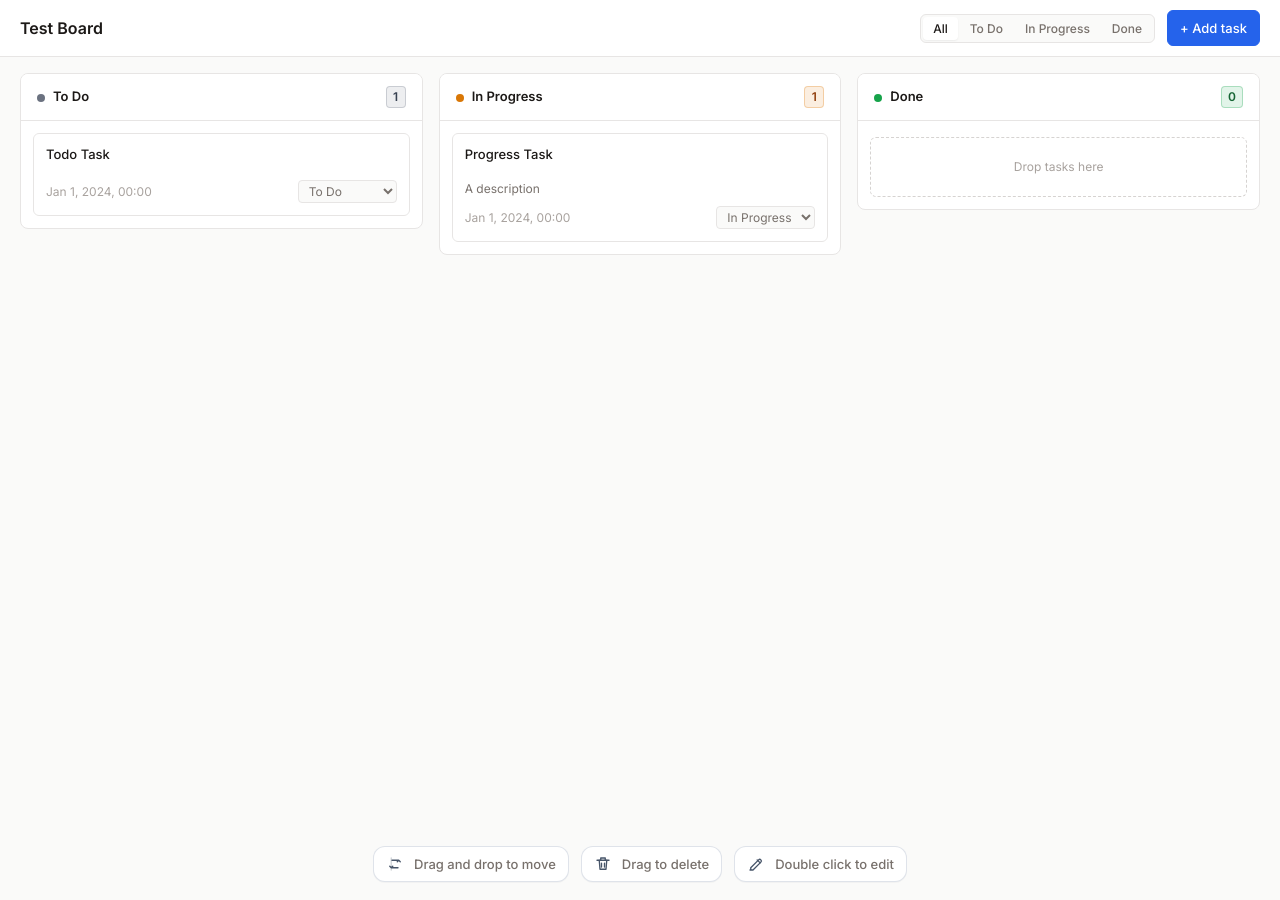
Test: TaskBoard › shows only the empty filter state when the selected status has no tasks
This screenshot has width=1280, height=900.
Check: the text "Todo Task" is shown, box top-left (46, 146), bottom-right (110, 162)
Click the button "Done". click: (1127, 28)
box: top-left (1102, 17), bottom-right (1152, 40)
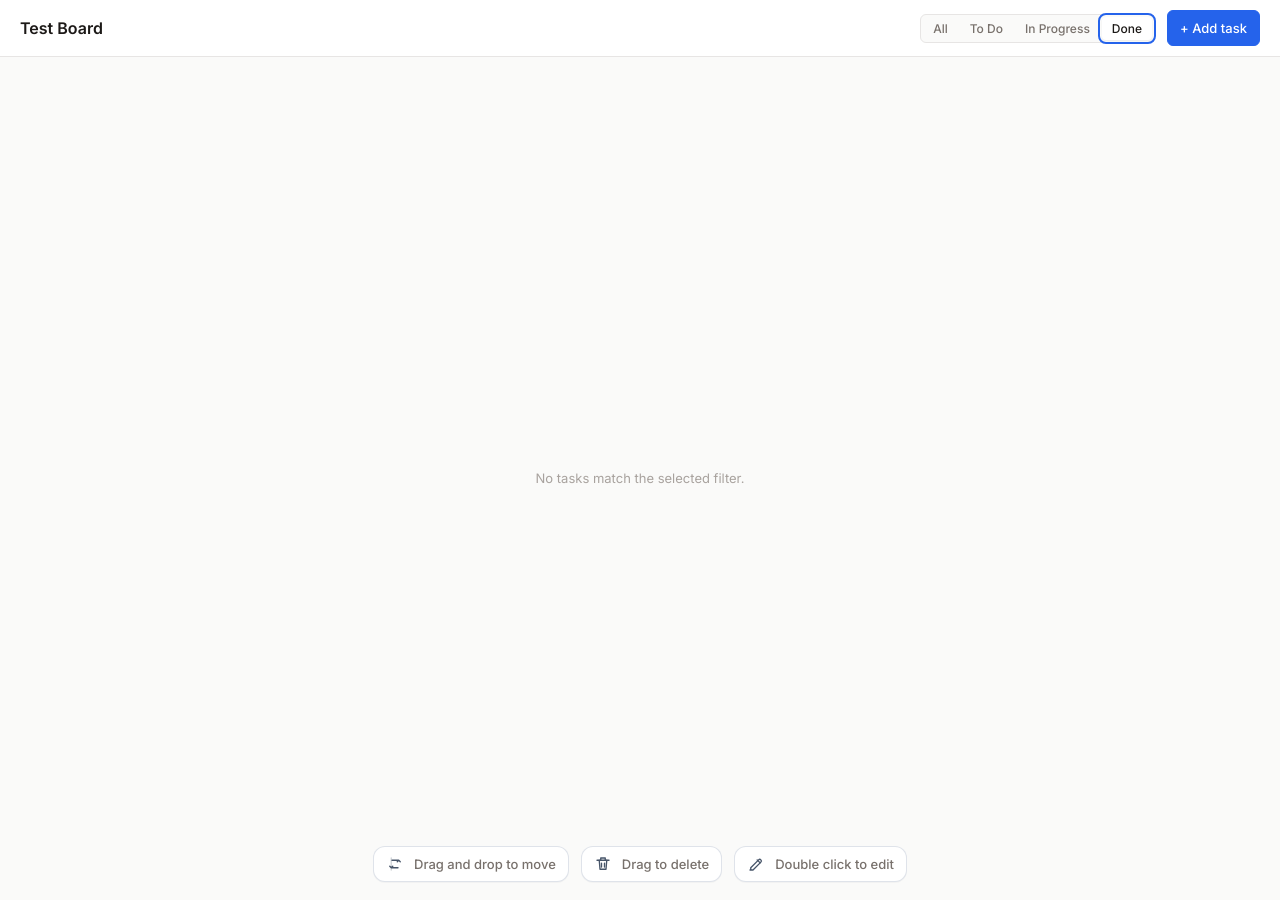
Check: the text "No tasks match the selected filter." is shown, box top-left (0, 453), bottom-right (1279, 504)
Check: the text "Drop tasks here" is gone
